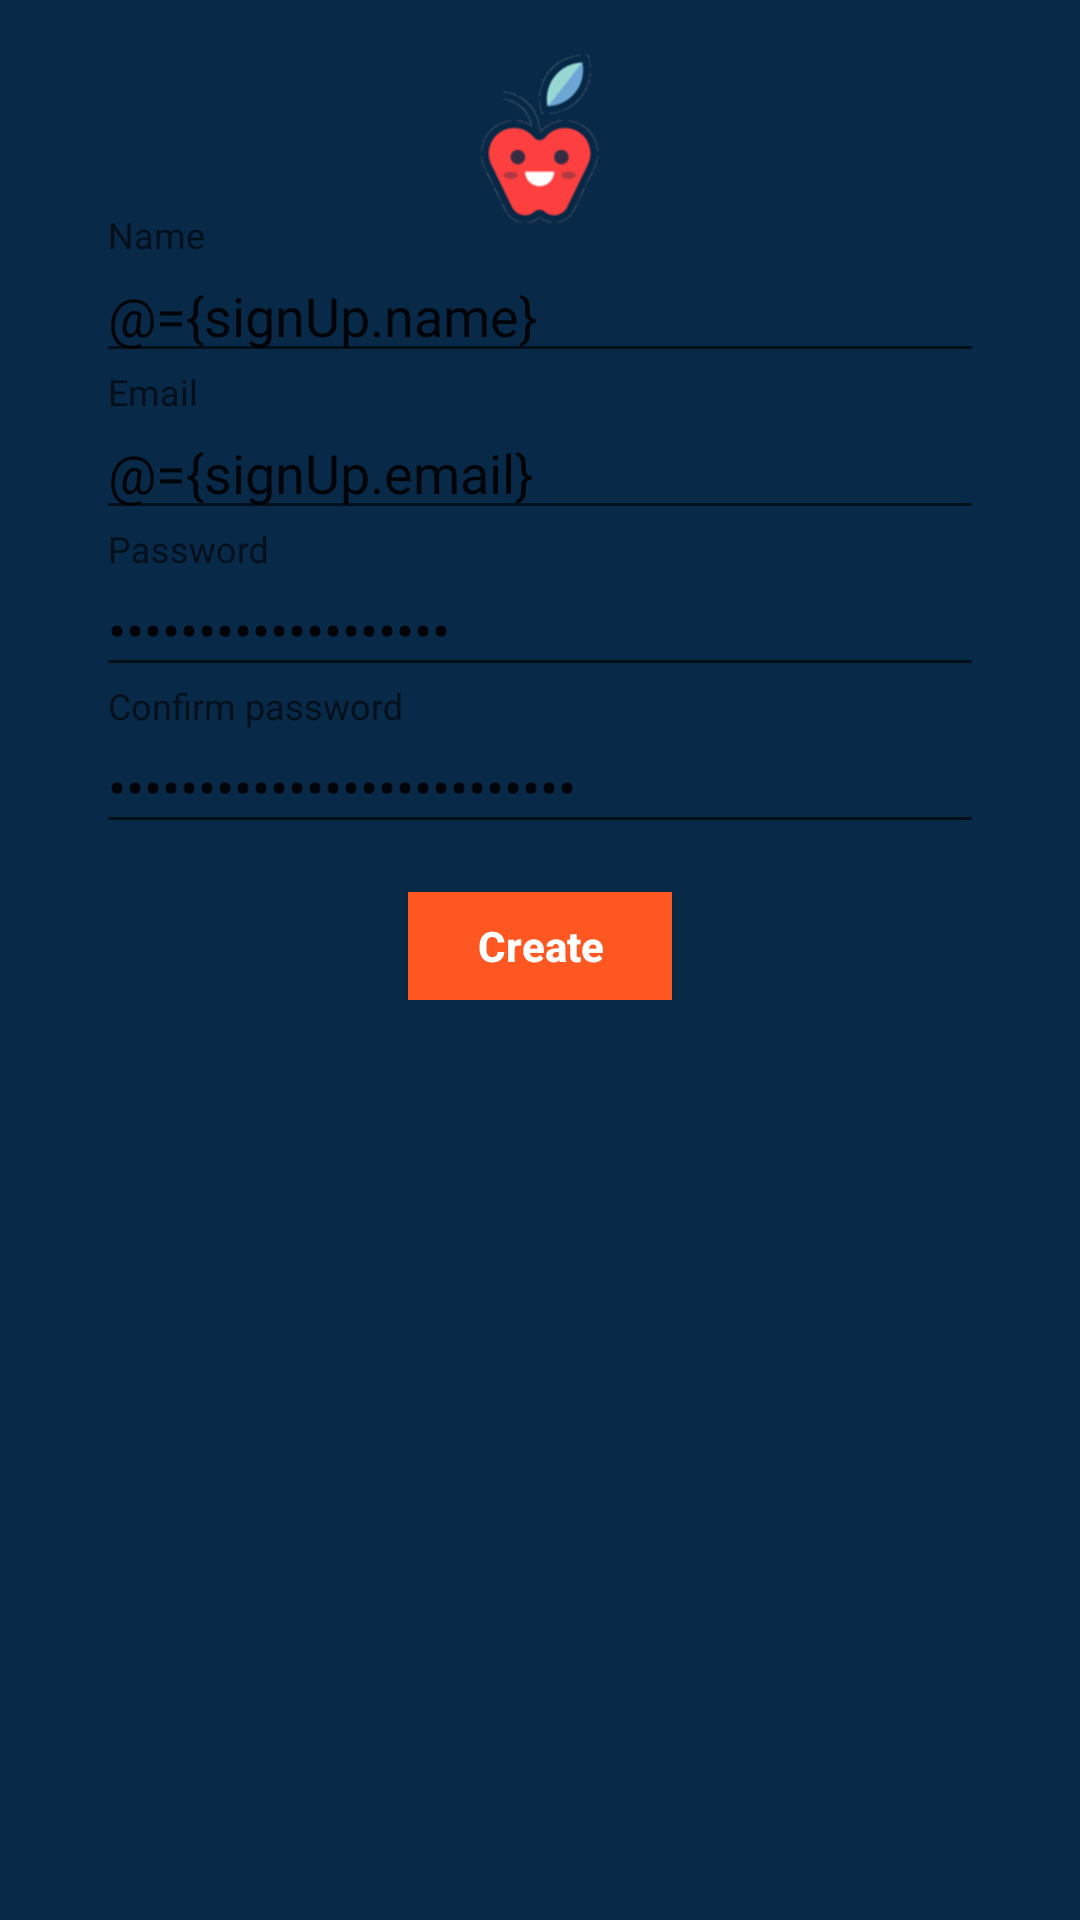

Named icons in this screenshot (1080w x 1920h) and their bounding boxes, Rect(x1, y1, x2, y2):
apple: Rect(482, 57, 598, 223)
